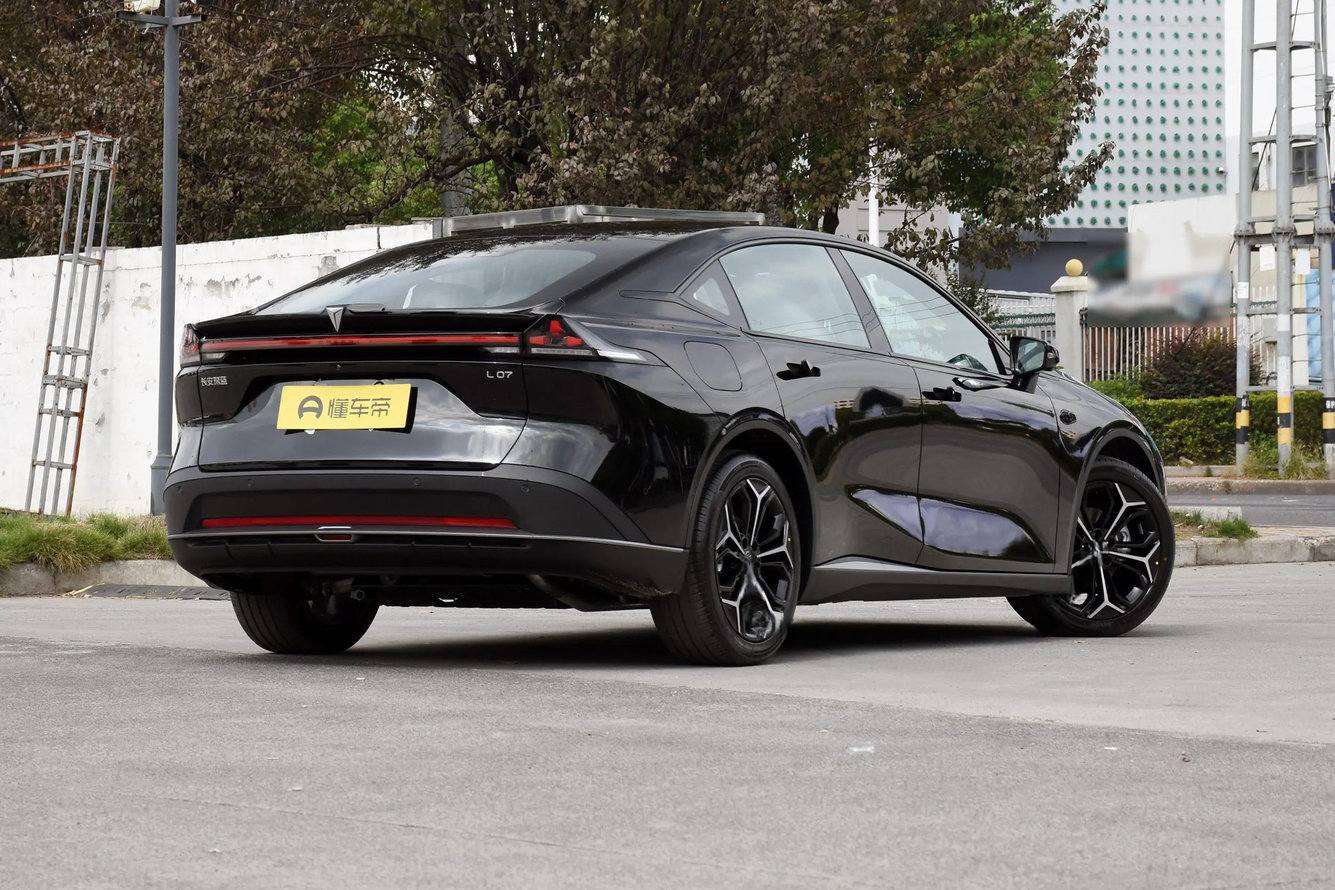Deepal: (326, 308, 343, 332)
